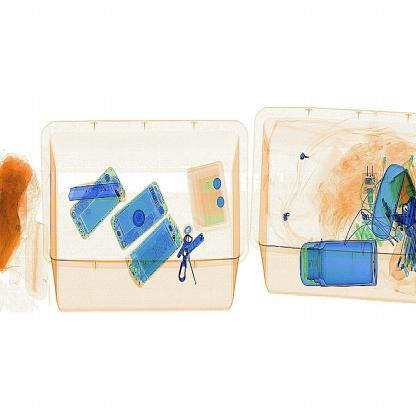pliers: (61, 173, 126, 205)
